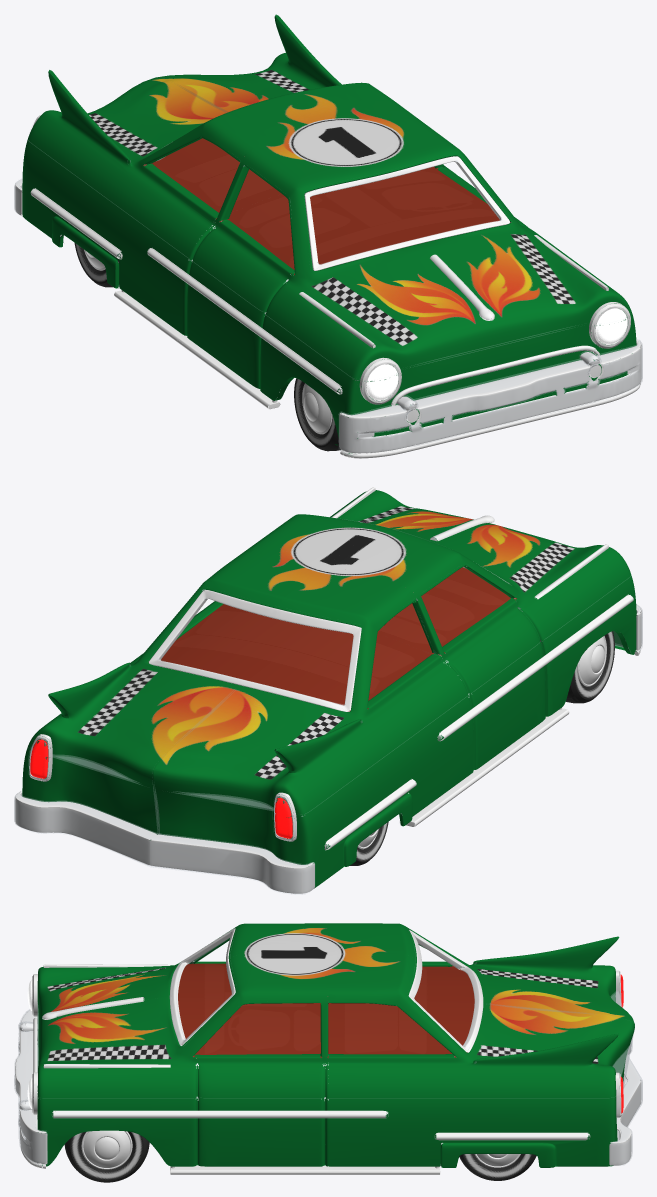
Rendered from car.glb.
3 renders of one model, top to bottom at view 1: azimuth 30°, elevation 25°; view 2: azimuth 150°, elevation 25°; view 3: azimuth 270°, elevation 25°, orthographic. The views are drawn at different scales.
Parts seen in each view (by area): view 1: Part_002, Part_006, Part_004, Part_001, Part_003, OriginalSkeleton, Part_005, Part_008; view 2: Part_004, Part_008, Part_002, Part_003, Part_001, OriginalSkeleton, Part_007, Part_006; view 3: Part_006, Part_008, Part_005, Part_007, Part_004, Part_002, OriginalSkeleton, Part_001, Part_003.
Part boxes in pixels (bbox=[...]): Part_002: bbox=[188, 128, 493, 381]; Part_006: bbox=[329, 112, 631, 346]; Part_004: bbox=[27, 70, 327, 259]; Part_001: bbox=[177, 260, 506, 458]; Part_003: bbox=[15, 141, 188, 342]; OriginalSkeleton: bbox=[14, 70, 642, 455]; Part_005: bbox=[493, 312, 641, 428]; Part_008: bbox=[156, 14, 453, 172]; Part_004: bbox=[153, 565, 468, 817]; Part_008: bbox=[27, 549, 327, 789]; Part_002: bbox=[329, 515, 631, 696]; Part_003: bbox=[150, 698, 479, 893]; Part_001: bbox=[468, 577, 641, 779]; OriginalSkeleton: bbox=[14, 537, 642, 894]; Part_007: bbox=[15, 748, 160, 865]; Part_006: bbox=[204, 487, 488, 608]; Part_006: bbox=[28, 954, 328, 1099]; Part_008: bbox=[328, 954, 634, 1099]; Part_005: bbox=[15, 1042, 328, 1182]; Part_007: bbox=[328, 1046, 641, 1180]; Part_004: bbox=[328, 923, 634, 1022]; Part_002: bbox=[28, 923, 328, 1037]; OriginalSkeleton: bbox=[14, 929, 642, 1166]; Part_001: bbox=[15, 992, 38, 1098]; Part_003: bbox=[611, 989, 641, 1087].
Bounding box in the file's own units: 0.0187 × 0.0116 × 0.0386.
Materials: 2 (1 with a texture image).
